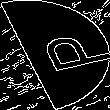P_W: (12, 29, 98, 81)
